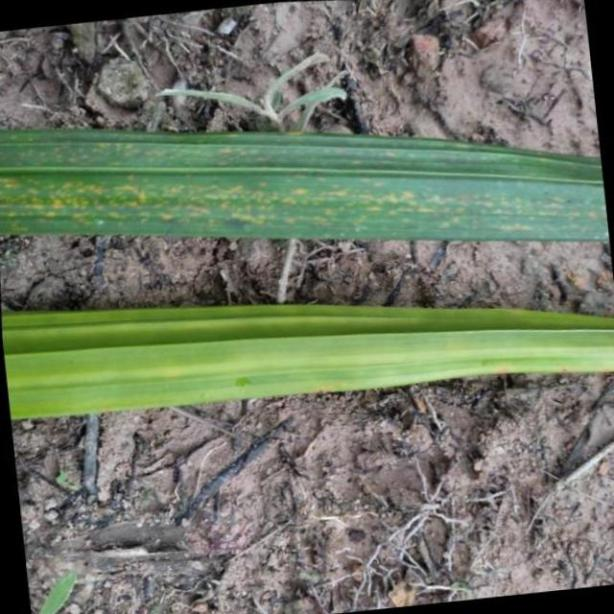nitrogen: (0, 304, 614, 420), (0, 125, 614, 241)
